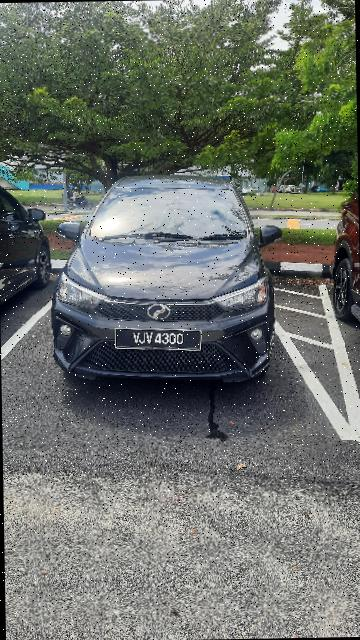License_Plate: (111, 325, 205, 355)
car: (44, 173, 288, 392)
